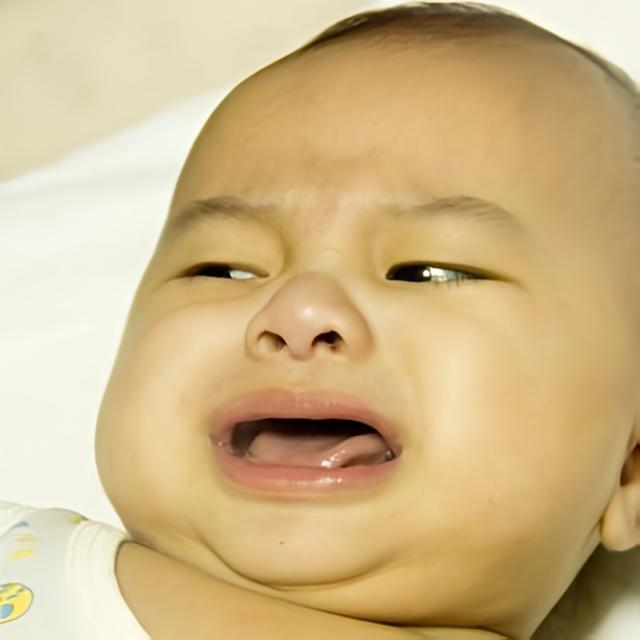sad: (96, 38, 600, 586)
